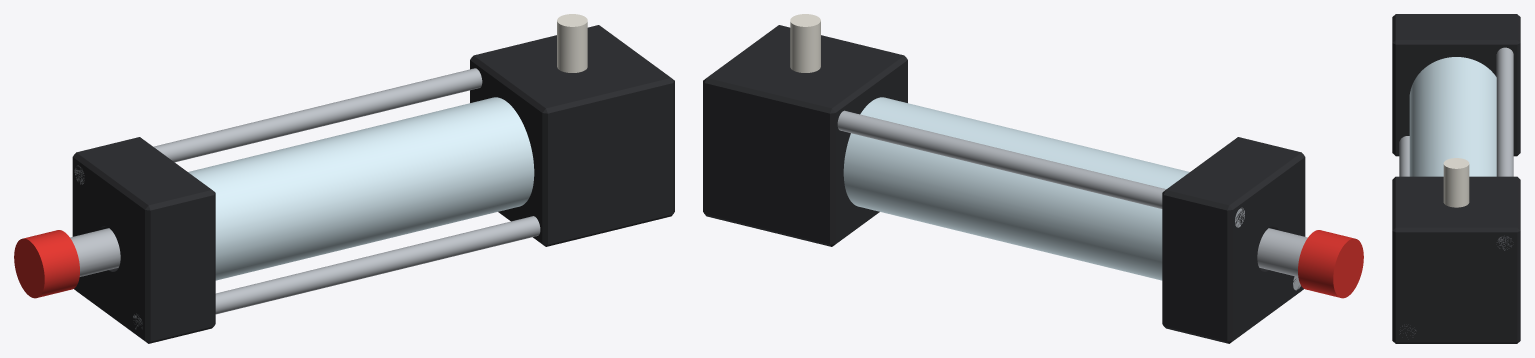
The model's file is pneumatic_cylinder.glb.
3 renders of one model, left to right at view 1: azimuth 30°, elevation 25°; view 2: azimuth 150°, elevation 25°; view 3: azimuth 270°, elevation 25°, orthographic. The views are drawn at different scales.
Visible parts, largest first — view 1: housing, barrel, tie_rods, rod_end, air_nipple, piston_rod; view 2: housing, barrel, tie_rods, rod_end, air_nipple, piston_rod; view 3: housing, barrel, tie_rods, air_nipple.
Part boxes in pixels (box(x1,y1,x2,y2)): housing: box(72, 25, 674, 343); barrel: box(188, 97, 534, 280); tie_rods: box(74, 68, 540, 329); rod_end: box(14, 230, 79, 298); air_nipple: box(557, 14, 587, 72); piston_rod: box(70, 228, 120, 276); housing: box(703, 25, 1305, 343); barrel: box(843, 97, 1189, 280); tie_rods: box(837, 110, 1300, 290); rod_end: box(1298, 230, 1363, 298); air_nipple: box(790, 14, 820, 72); piston_rod: box(1257, 228, 1307, 276); housing: box(1392, 14, 1520, 343); barrel: box(1409, 57, 1496, 176); tie_rods: box(1399, 47, 1513, 335); air_nipple: box(1443, 158, 1469, 207).
Bounding box in the file's own units: 0.069 × 0.02 × 0.015.
